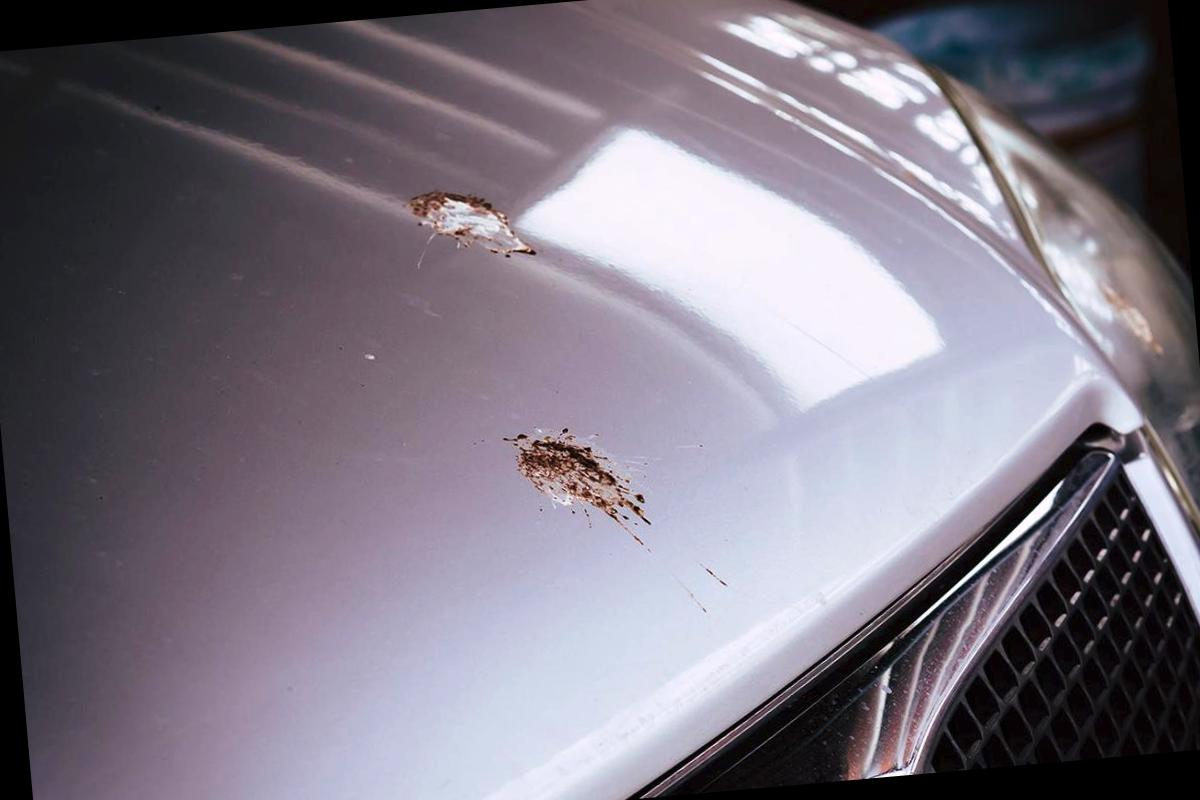Bird Poop: (504, 429, 650, 545), (407, 190, 536, 256)
